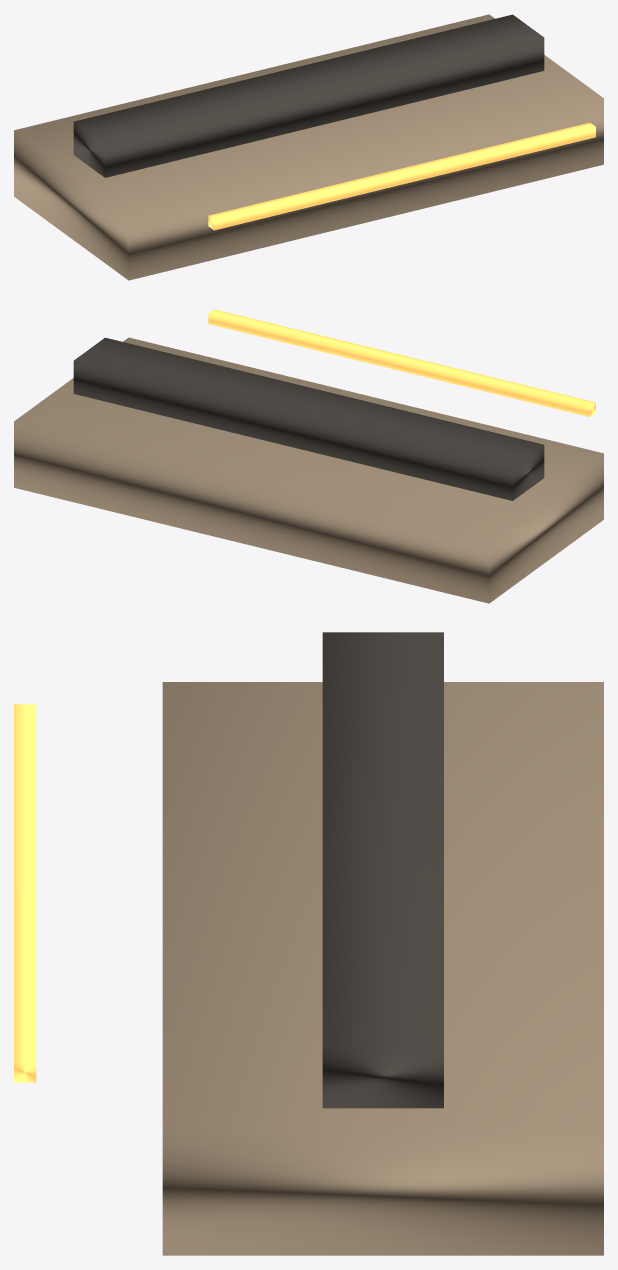
File: jovian-harvester-deck-span-lod2.glb
3 renders of one model, top to bottom at view 1: azimuth 30°, elevation 25°; view 2: azimuth 150°, elevation 25°; view 3: azimuth 270°, elevation 25°, orthographic. The views are drawn at different scales.
Visible parts, largest first — view 1: jovian-harvester-deck-span-main, jovian-harvester-deck-span-underbeam, jovian-harvester-deck-span-wayfinding; view 2: jovian-harvester-deck-span-main, jovian-harvester-deck-span-underbeam, jovian-harvester-deck-span-wayfinding; view 3: jovian-harvester-deck-span-main, jovian-harvester-deck-span-underbeam, jovian-harvester-deck-span-wayfinding.
Part boxes in pixels (x1,y1,x2,y2): jovian-harvester-deck-span-main: (14,14,603,280); jovian-harvester-deck-span-underbeam: (73,14,544,177); jovian-harvester-deck-span-wayfinding: (208,122,595,230); jovian-harvester-deck-span-main: (14,337,603,603); jovian-harvester-deck-span-underbeam: (73,337,544,500); jovian-harvester-deck-span-wayfinding: (208,309,595,416); jovian-harvester-deck-span-main: (162,682,603,1255); jovian-harvester-deck-span-underbeam: (322,632,443,1108); jovian-harvester-deck-span-wayfinding: (14,704,36,1082).
Bounding box in the file's own units: 3.3 × 0.67 × 1.84.
